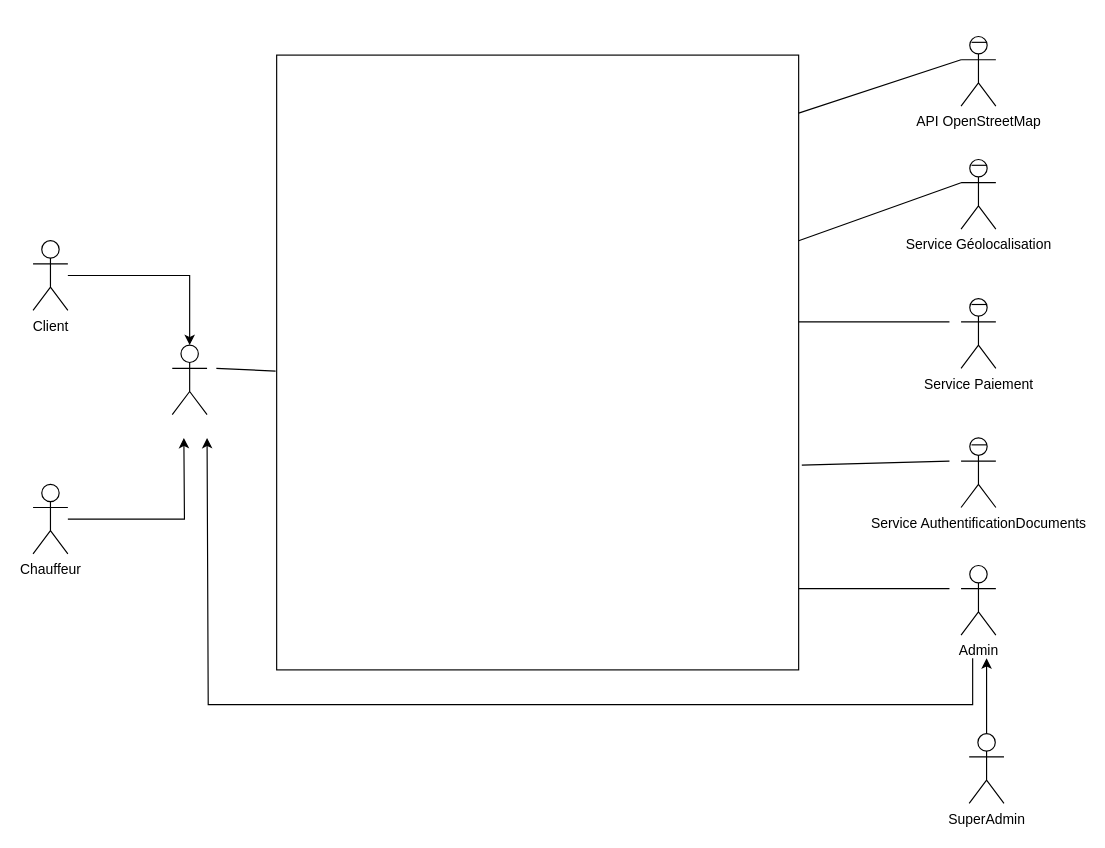
This 1105x848 diagram has some shape labels left out. Each missing label, with the box of its shape:
Système: (276, 54, 799, 670)
UtilisateurGénérique: (171, 344, 207, 415)
